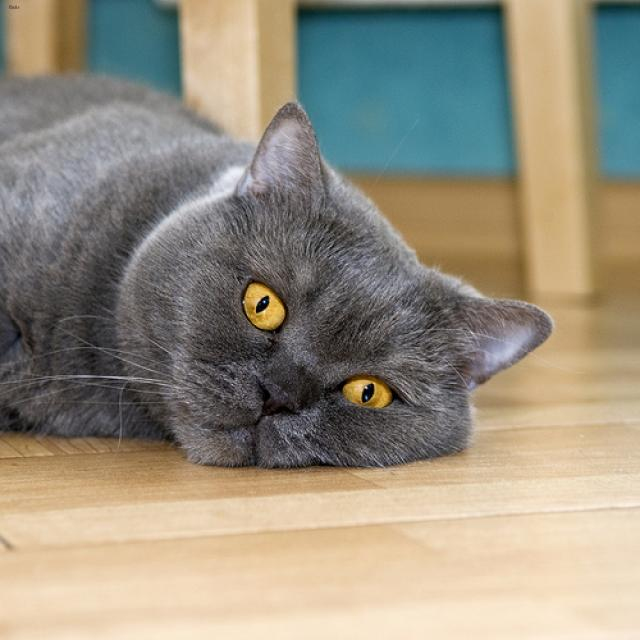cat: (166, 101, 552, 467)
